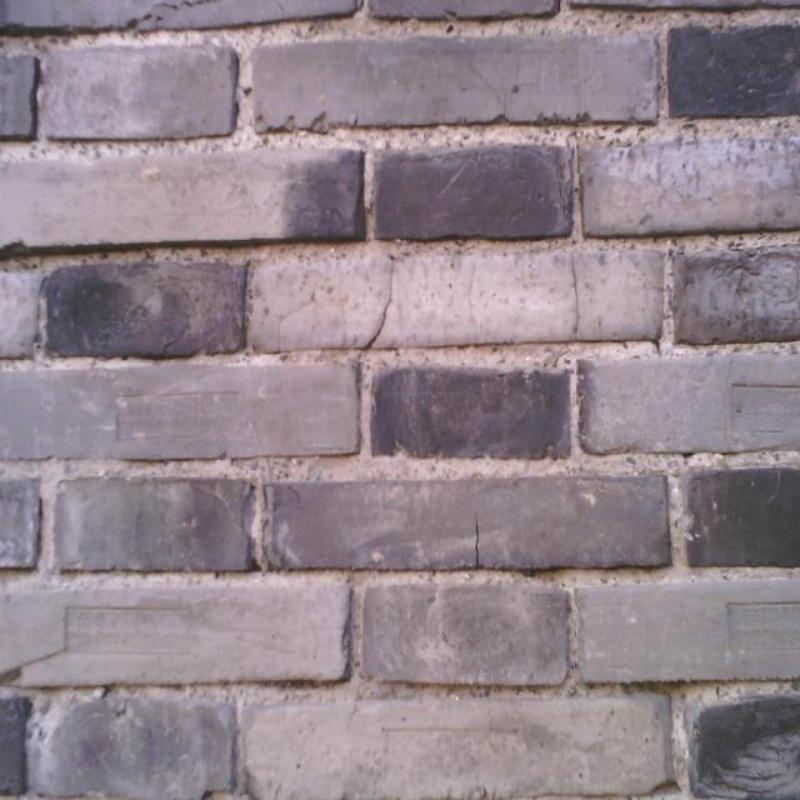pothole: (360, 262, 395, 351), (572, 255, 581, 334), (474, 511, 479, 568)
